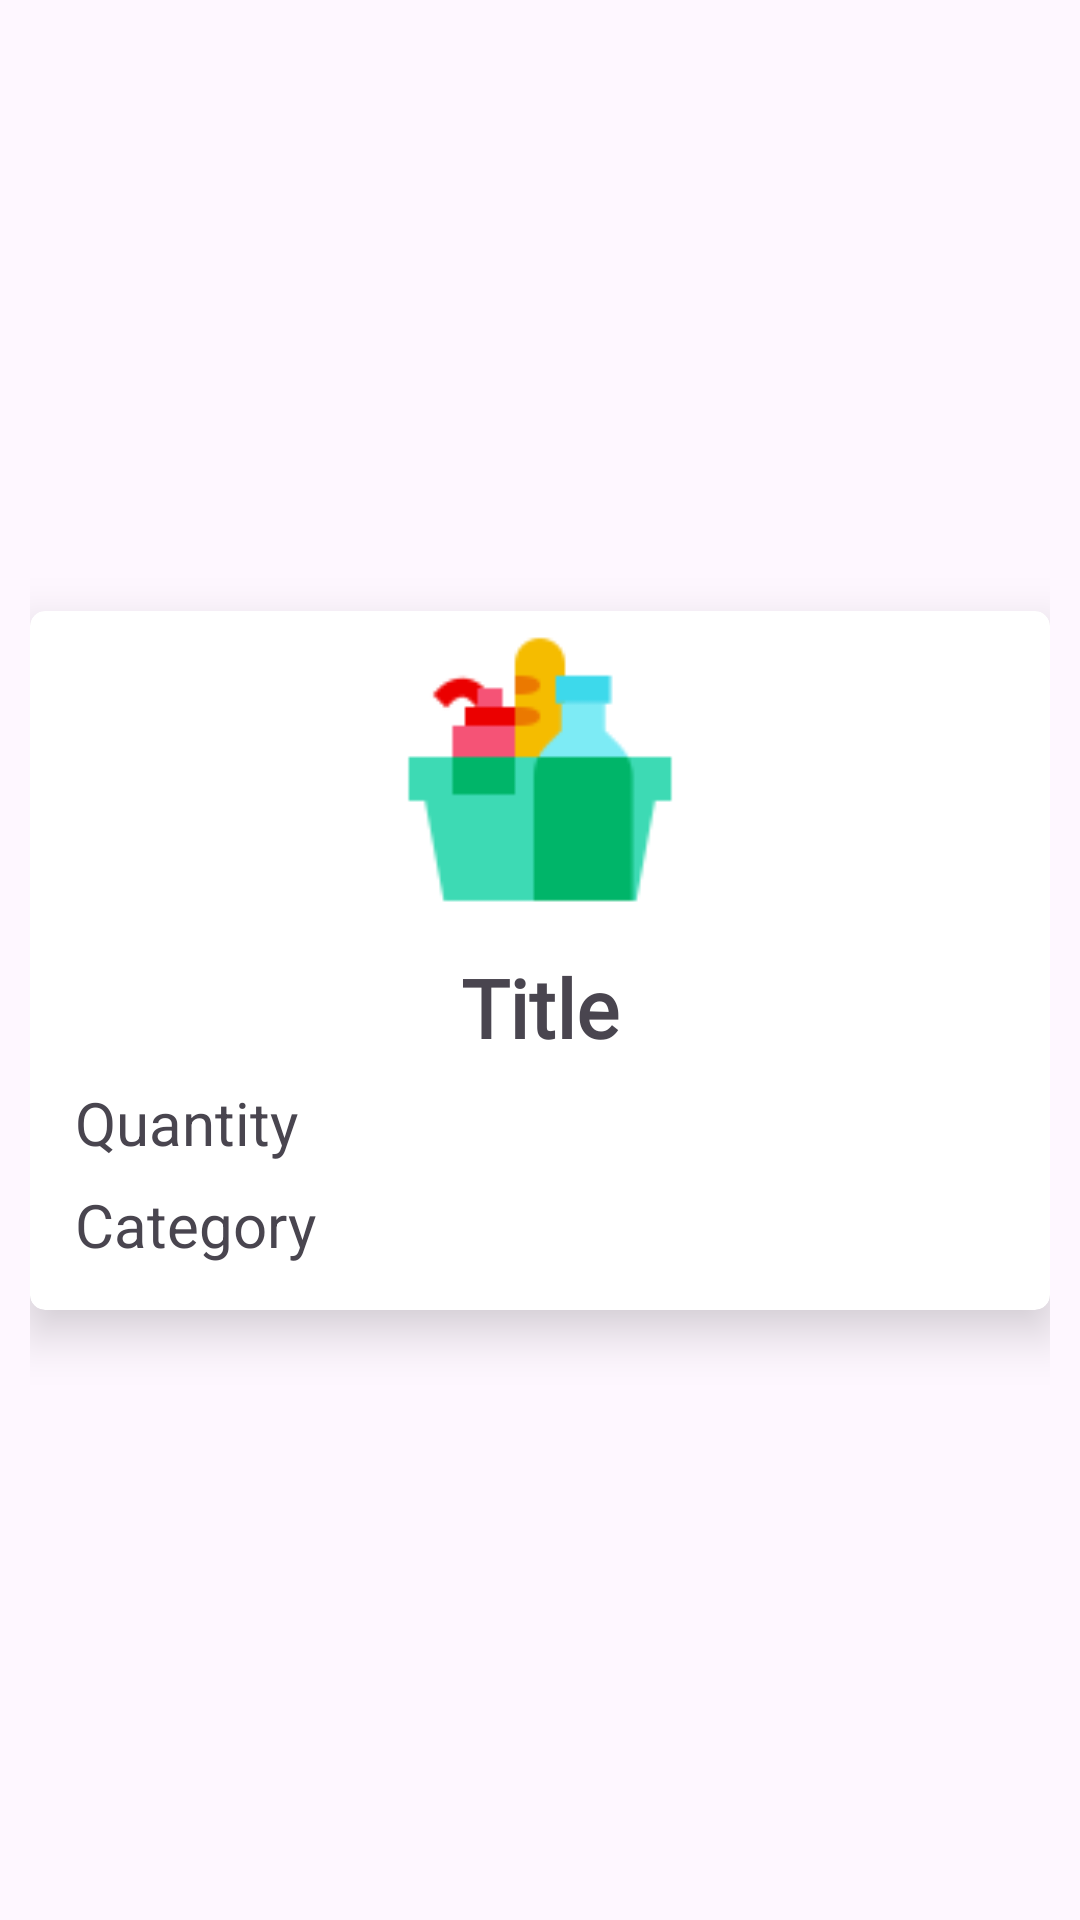

Screen size 1080*1920. Icon name, then its box in pixels as {"x1": x1, "y1": y1, "x2": x2, "y2": y2}:
groceries: {"x1": 408, "y1": 637, "x2": 672, "y2": 902}
